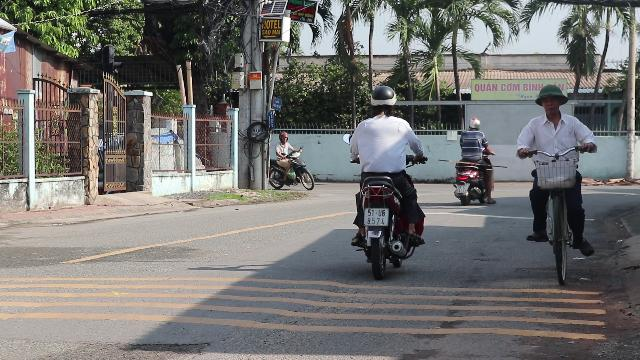helmet: (369, 85, 397, 117)
licenseplate: (364, 207, 388, 224)
motorcyclist: (344, 83, 428, 275)
